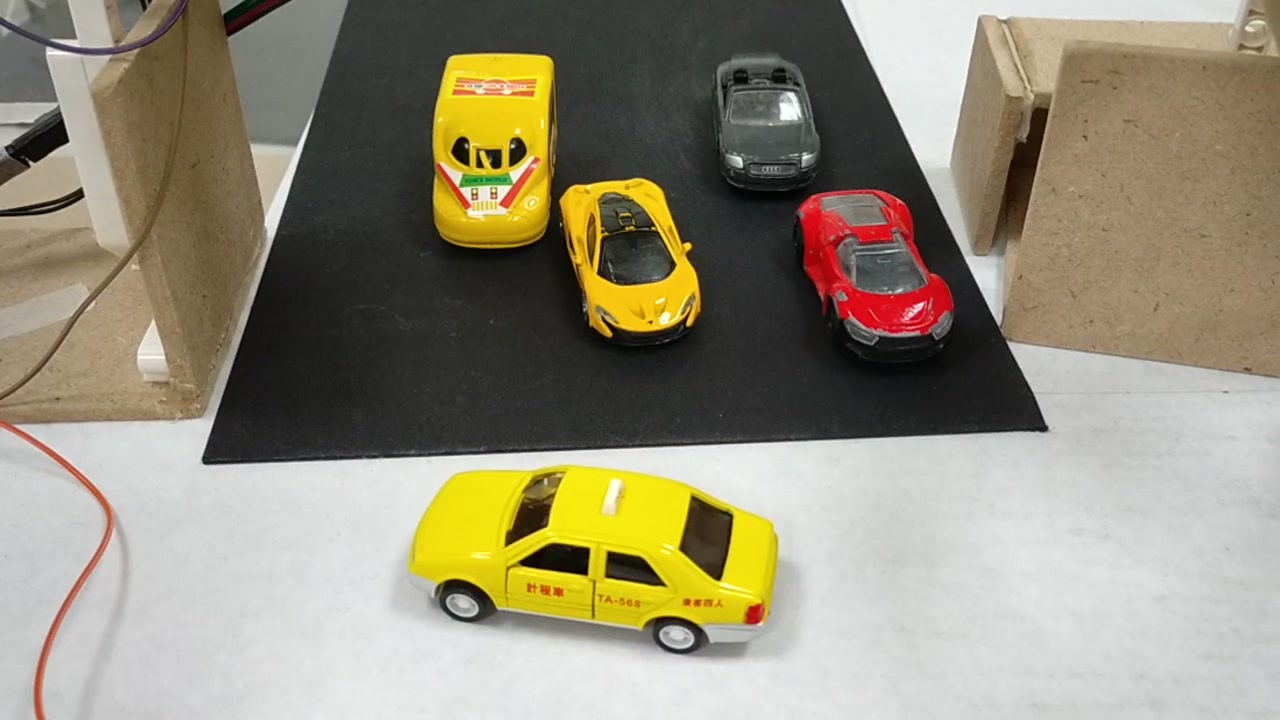car: (426, 466, 781, 661), (796, 196, 958, 354), (565, 183, 706, 345), (714, 54, 819, 198)
